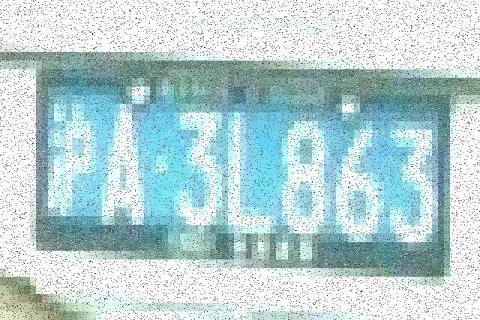LicensePlate: (33, 54, 454, 288)
